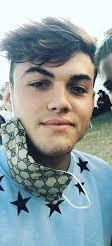Wore Mask Incorrectly: (0, 20, 99, 200)
